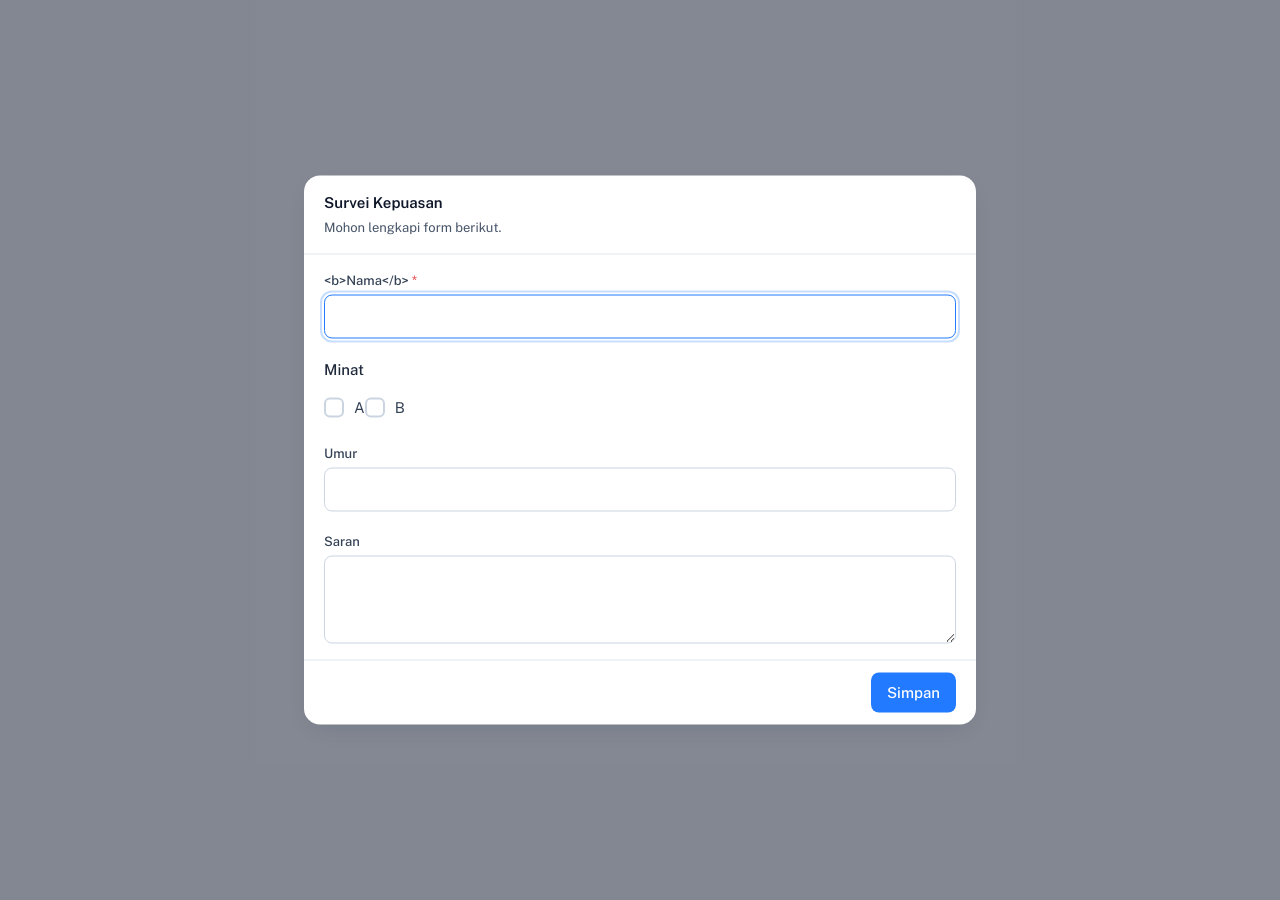
Test case: FormIsianDialog › 422 → galat server di bawah pertanyaan, dialog tetap
In the field labelled "<b>Nama</b> *": (640, 316) [324, 294, 956, 338], type "Budi"
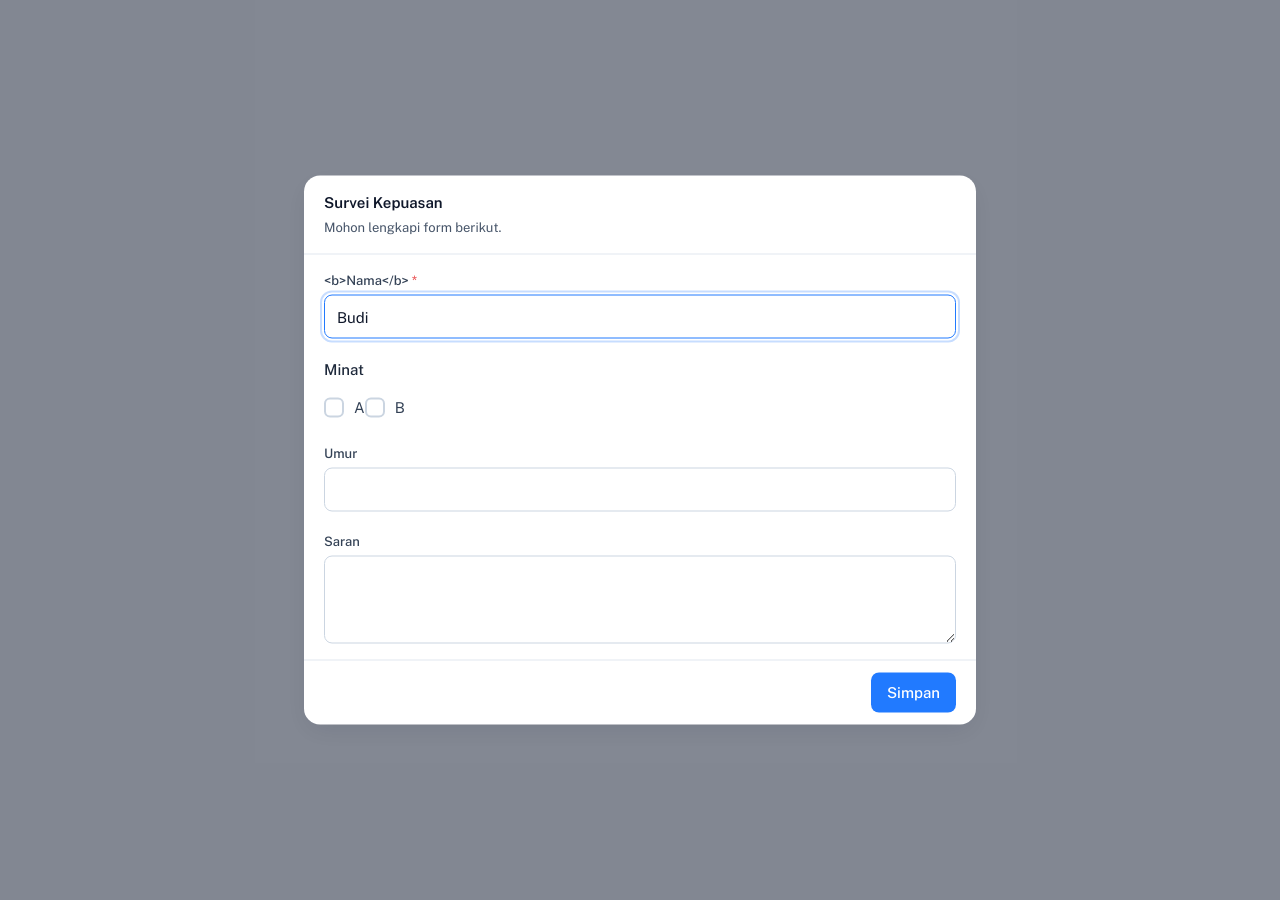
Click the button with test id "form-isian-simpan": (913, 692) [871, 672, 956, 712]
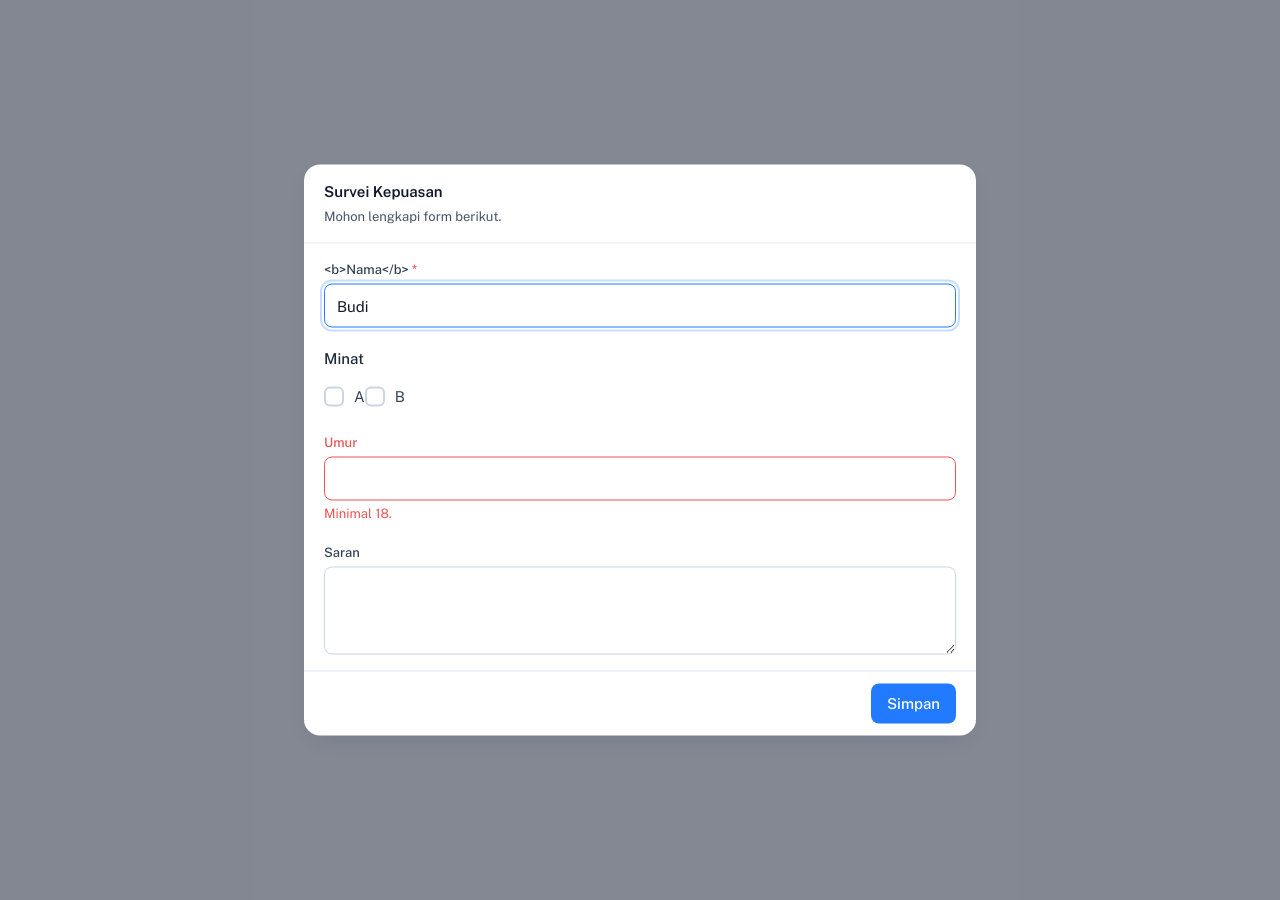
Check: the element with test id "form-isian-q-umur" shows "Minimal 18.", box [324, 506, 392, 520]
